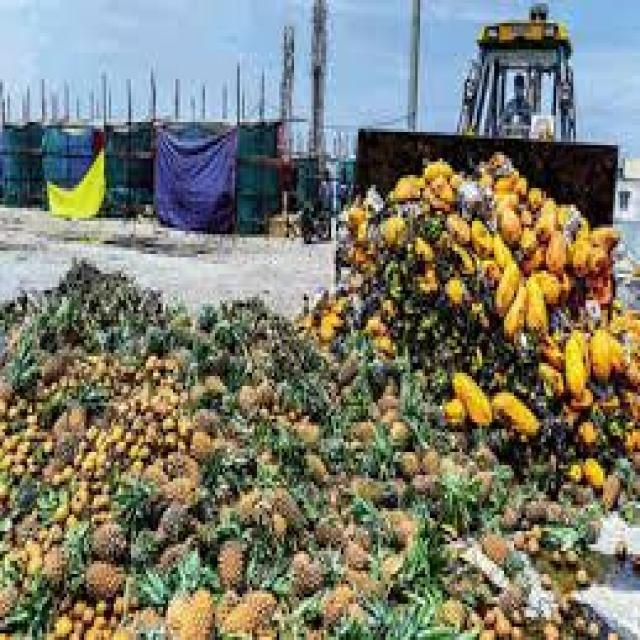Organik: (2, 320, 637, 510), (365, 195, 567, 639), (0, 307, 262, 637), (197, 320, 384, 640)
